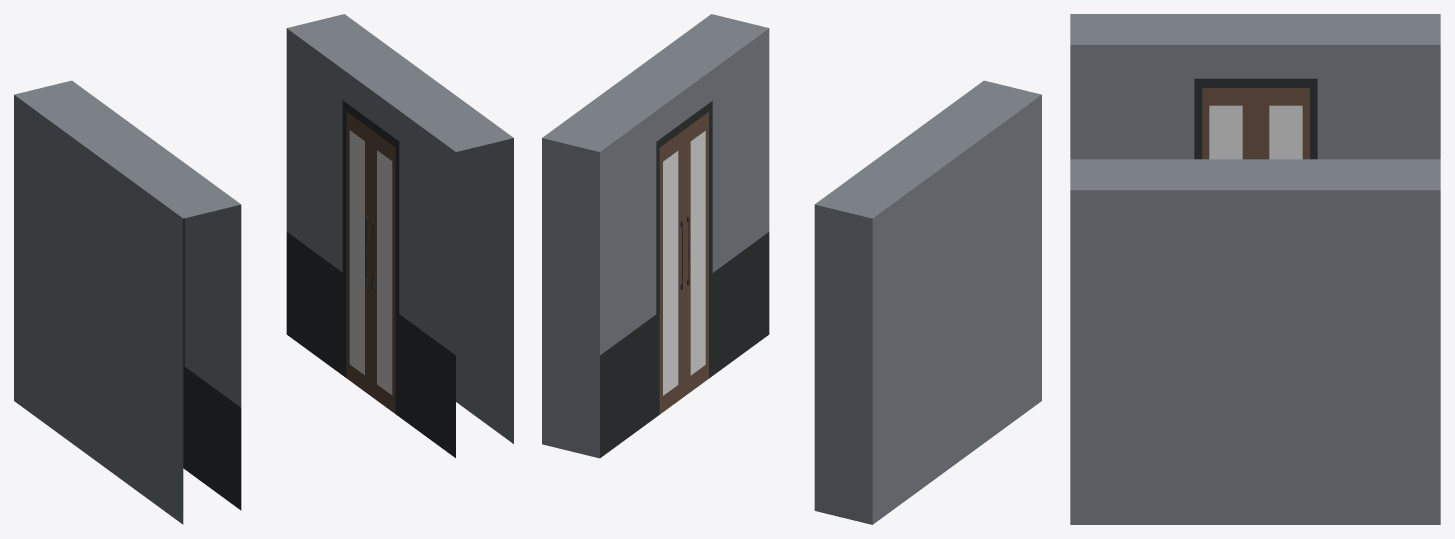
The model's file is Corredor3.fbx.
The picture shows the model from 3 angles, left to right: view 1: azimuth 30°, elevation 25°; view 2: azimuth 150°, elevation 25°; view 3: azimuth 270°, elevation 25°; orthographic projection. The views are drawn at different scales.
Parts seen in each view (by area): view 1: Meio.P; view 2: Meio.P; view 3: Meio.P.
Boxes of the visible parts, x1,y1,x2,y2 form: Meio.P: (14,14,513,524); Meio.P: (542,14,1041,524); Meio.P: (1070,14,1440,524).
Size of the model in its own units: 1807 by 1600 by 1604.
